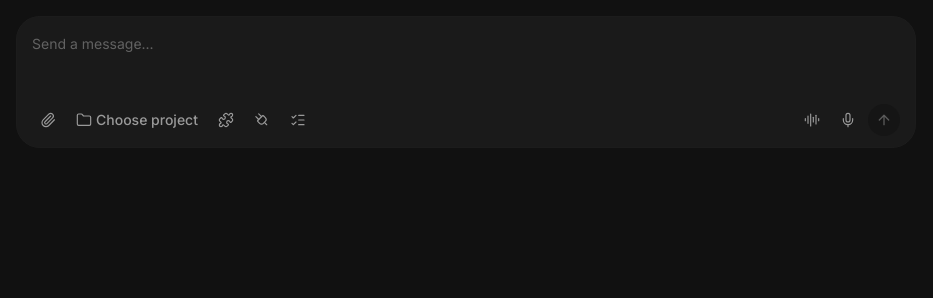
ChatView › a realtime error refetches messages and clears the live bubble once the run is gone
Step 1. Type "hello" into the text box with placeholder "Send a message..." → (466, 44), box [32,32,900,56]
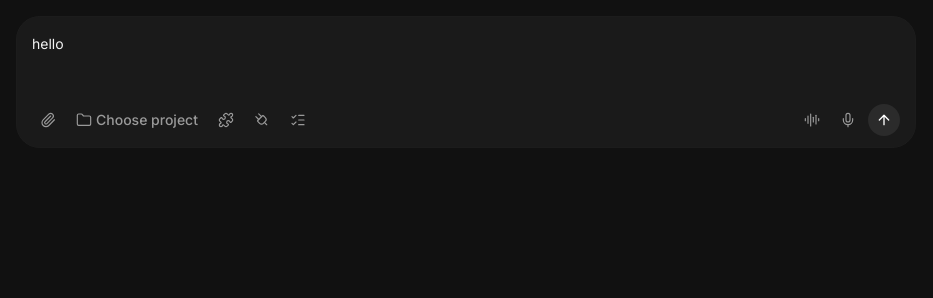
Step 2. Press Enter in the text box with placeholder "Send a message...", box [32,32,900,56]
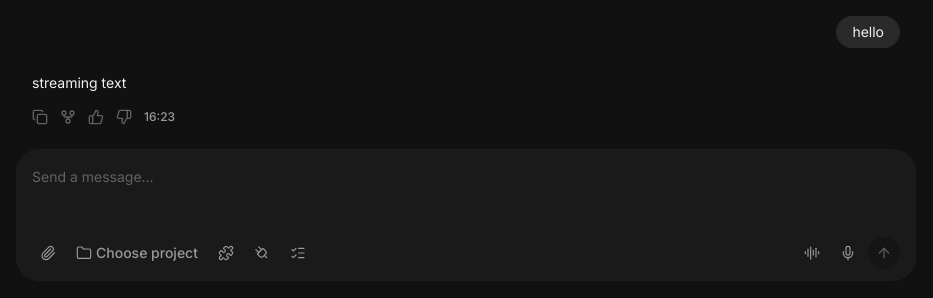
Expected: the text box with placeholder "Send a message..." is empty, [32,165,900,189]
Expected: the text "streaming text" is shown once, [32,72,126,95]
